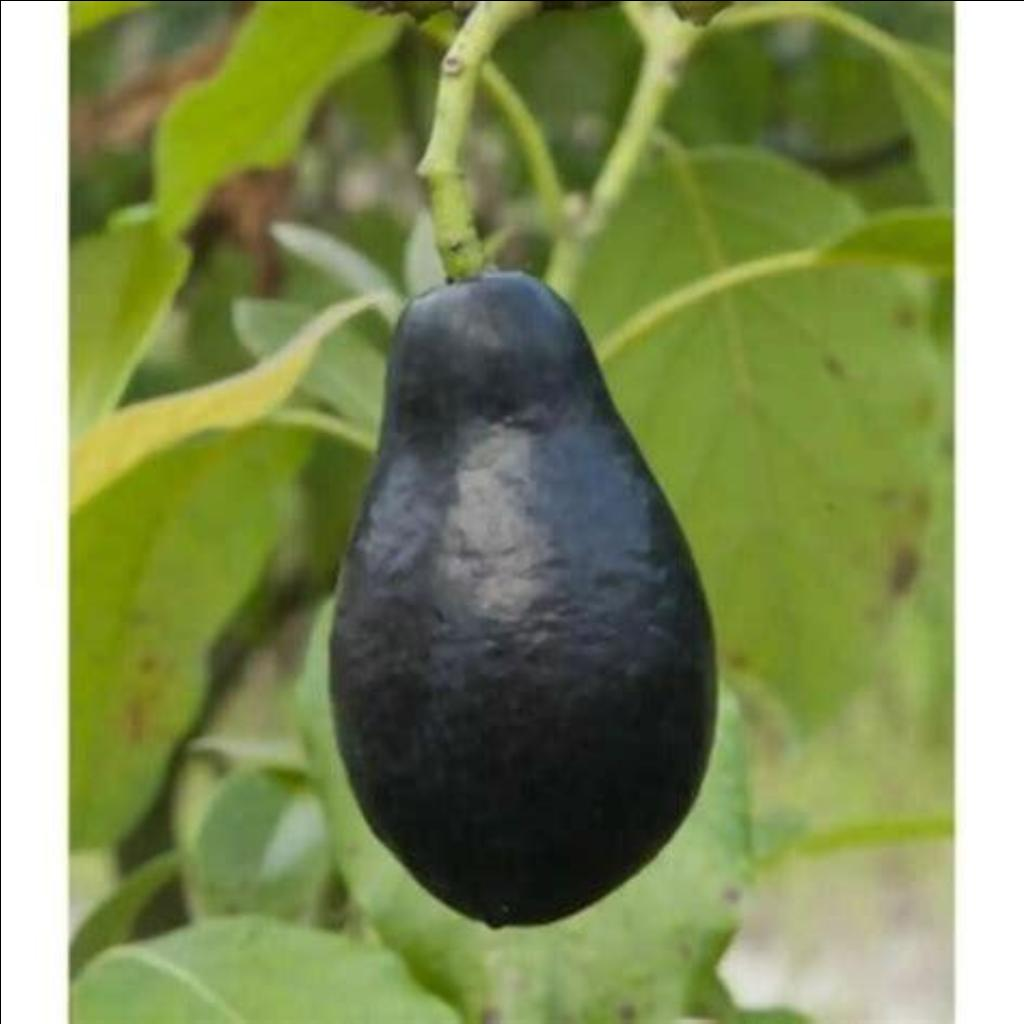Healthy: (307, 260, 739, 938)
